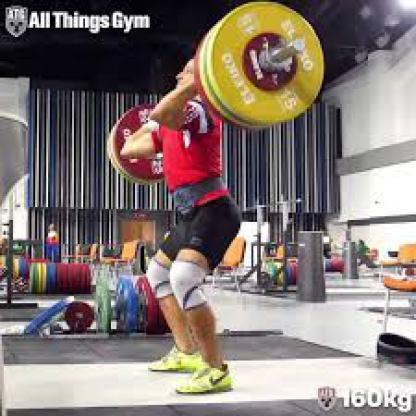barbell: (108, 2, 324, 184)
